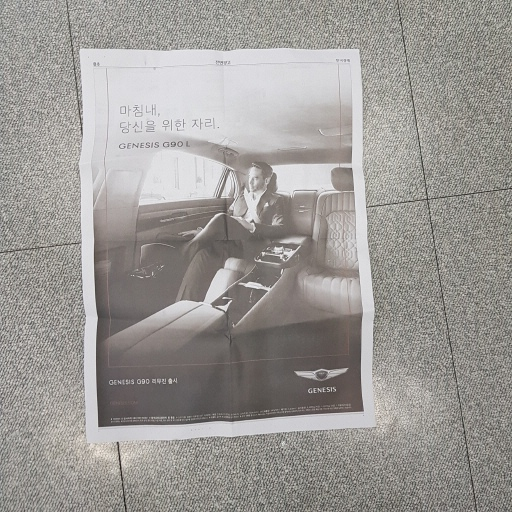Paper_2: (75, 41, 389, 447)
